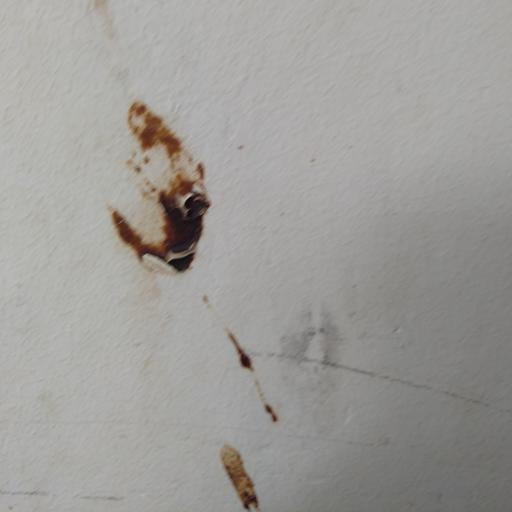stain: (243, 271, 512, 416), (103, 49, 221, 314), (185, 279, 304, 434), (200, 428, 272, 512), (89, 4, 136, 56)
